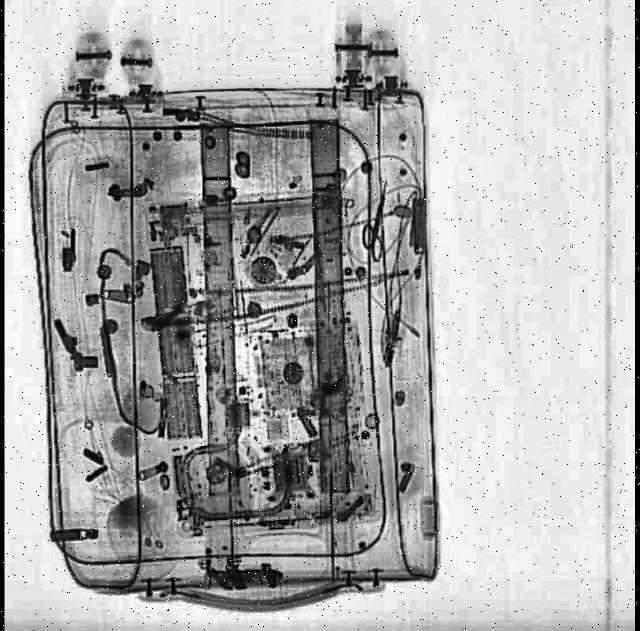Scissors: (356, 180, 400, 262)
